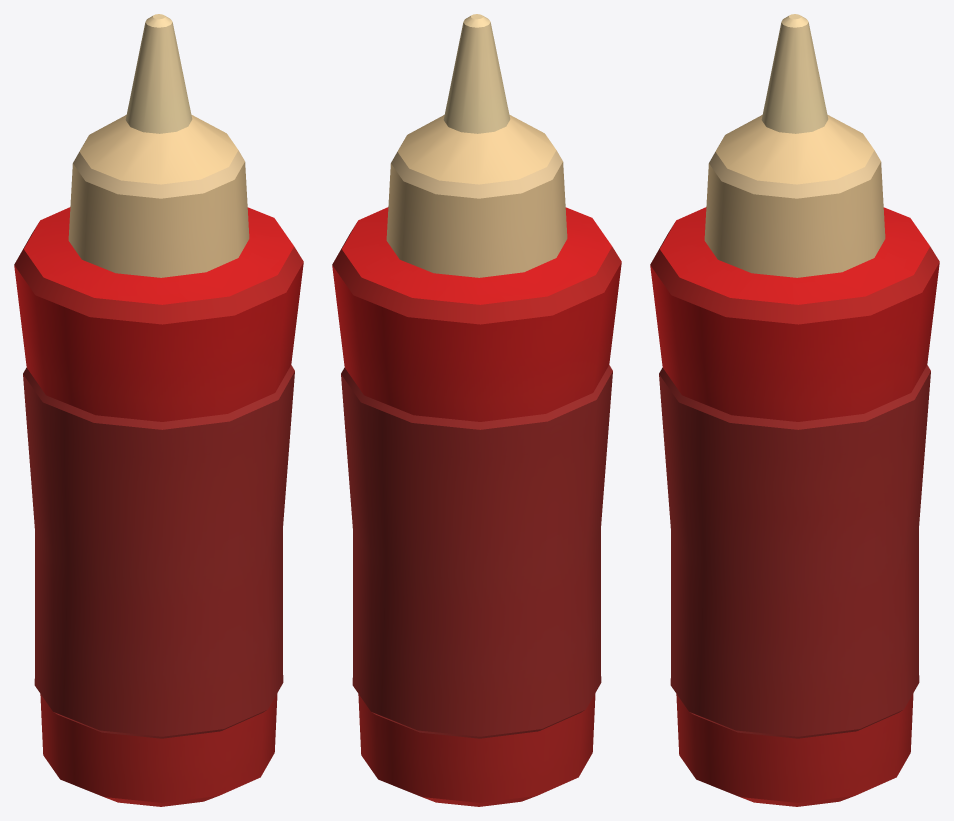
Rendered from Ketchup.glb.
The picture shows the model from 3 angles, left to right: view 1: azimuth 30°, elevation 25°; view 2: azimuth 150°, elevation 25°; view 3: azimuth 270°, elevation 25°; orthographic projection.
Visible parts, largest first — view 1: Ketchup; view 2: Ketchup; view 3: Ketchup.
Part boxes in pixels (x1,y1,x2,y2): Ketchup: (14, 14, 303, 806); Ketchup: (332, 14, 621, 806); Ketchup: (650, 14, 939, 806).
Bounding box in the file's own units: 0.096 × 0.2758 × 0.096.
1 material, 1 textured.
